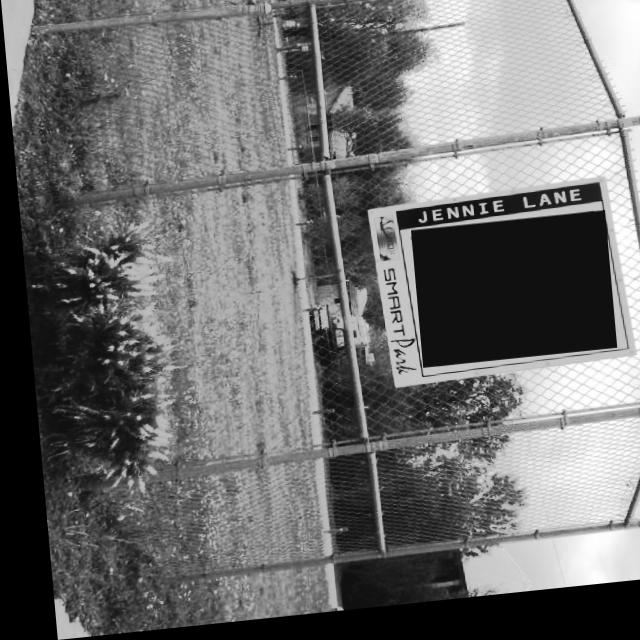qr_code: (405, 223, 609, 376)
